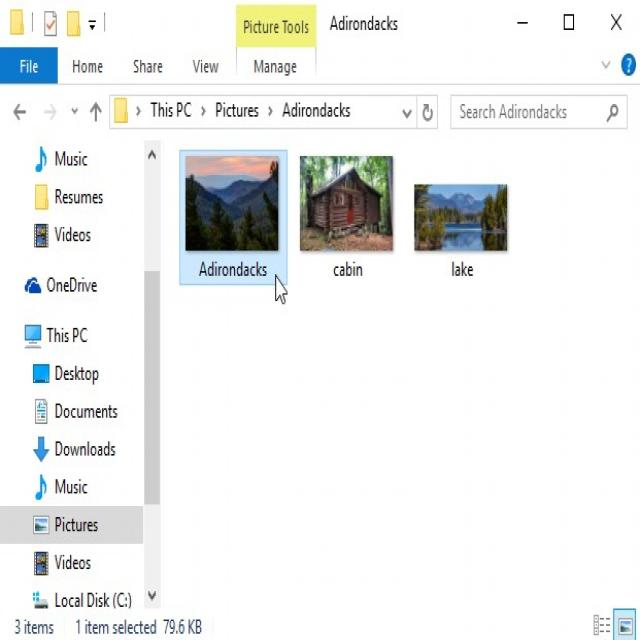button: (405, 147, 517, 289), (292, 147, 400, 288), (180, 149, 287, 286), (5, 177, 144, 214), (7, 392, 142, 429), (5, 316, 142, 352), (6, 269, 139, 306), (6, 507, 141, 543), (6, 217, 140, 253), (6, 468, 141, 503), (5, 546, 142, 580), (7, 430, 141, 464), (5, 142, 143, 174), (6, 358, 141, 390), (7, 583, 139, 610), (145, 271, 160, 506), (237, 49, 316, 83), (116, 48, 178, 84), (0, 47, 58, 84), (592, 1, 640, 43), (58, 47, 114, 83), (179, 48, 235, 84), (498, 1, 546, 41), (546, 1, 590, 42), (1, 2, 32, 42), (34, 1, 63, 43), (62, 0, 84, 43), (39, 94, 61, 129), (85, 2, 104, 42), (8, 94, 30, 128), (416, 95, 438, 128), (613, 608, 635, 640), (86, 94, 106, 129), (591, 608, 612, 640), (617, 51, 639, 81), (598, 50, 615, 81), (66, 96, 82, 128), (602, 99, 622, 124), (145, 583, 161, 608), (144, 143, 161, 165), (400, 102, 414, 122)
field: (109, 94, 417, 128), (451, 95, 628, 129)
